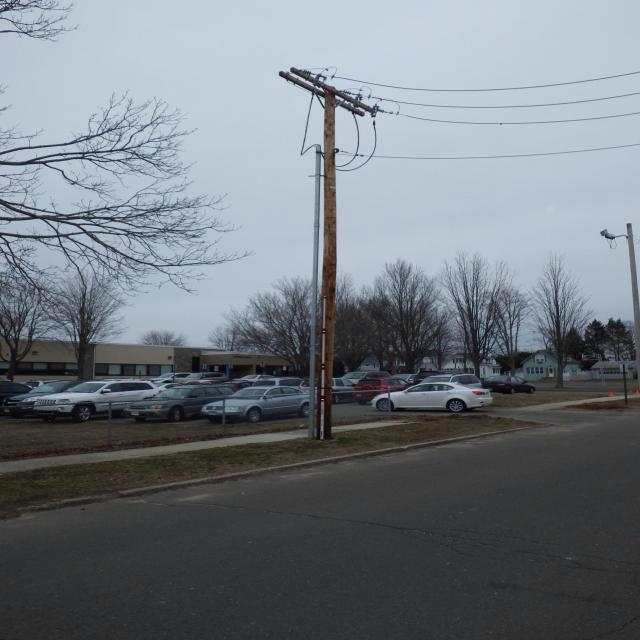crossarm: (277, 68, 381, 120)
pole: (310, 87, 344, 442)
wire: (298, 66, 640, 156), (357, 85, 640, 108), (337, 143, 640, 160), (378, 108, 640, 125), (337, 117, 378, 172), (337, 114, 360, 168)
